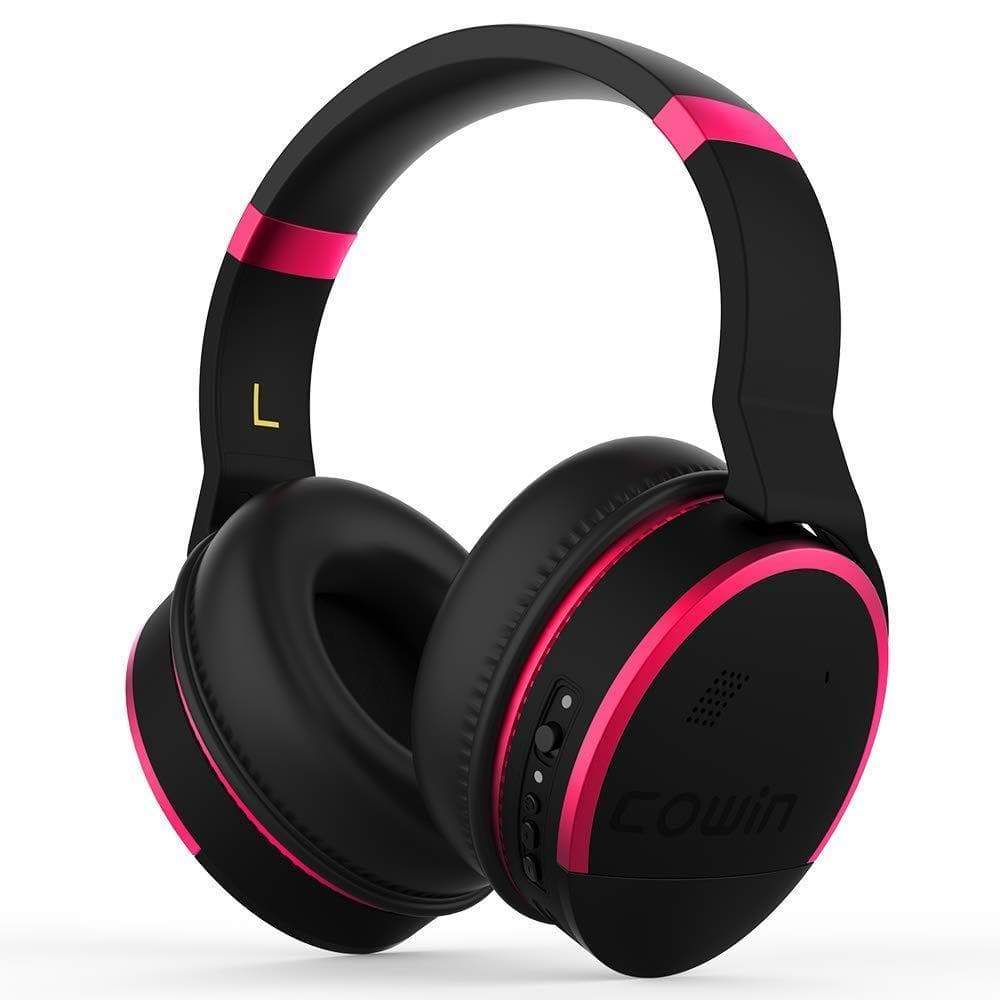Headphone: (107, 15, 901, 984)
